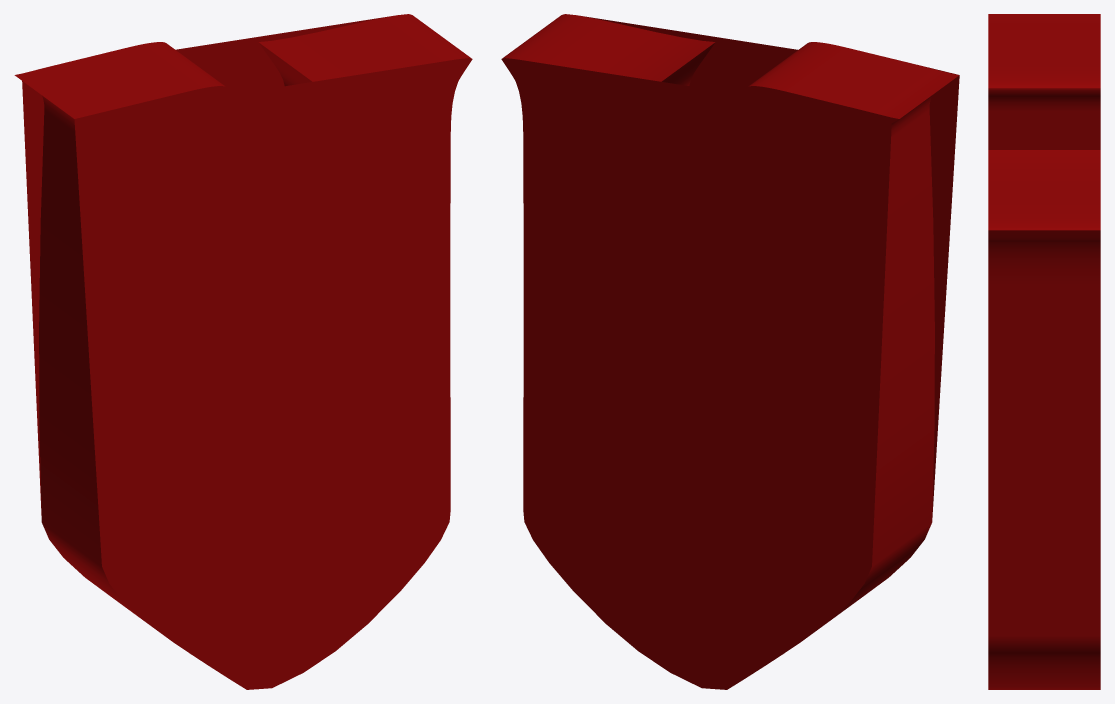
3 views of the same model, side by side, from view 1: azimuth 30°, elevation 25°; view 2: azimuth 150°, elevation 25°; view 3: azimuth 270°, elevation 25° (orthographic). The views are drawn at different scales.
Visible parts, largest first — view 1: polySurface135; view 2: polySurface135; view 3: polySurface135.
Part boxes in pixels (x1,y1,x2,y2): polySurface135: [14, 14, 472, 689]; polySurface135: [501, 14, 959, 689]; polySurface135: [988, 14, 1100, 689].
Size of the model in its own units: 2.7 by 4 by 0.7068.
